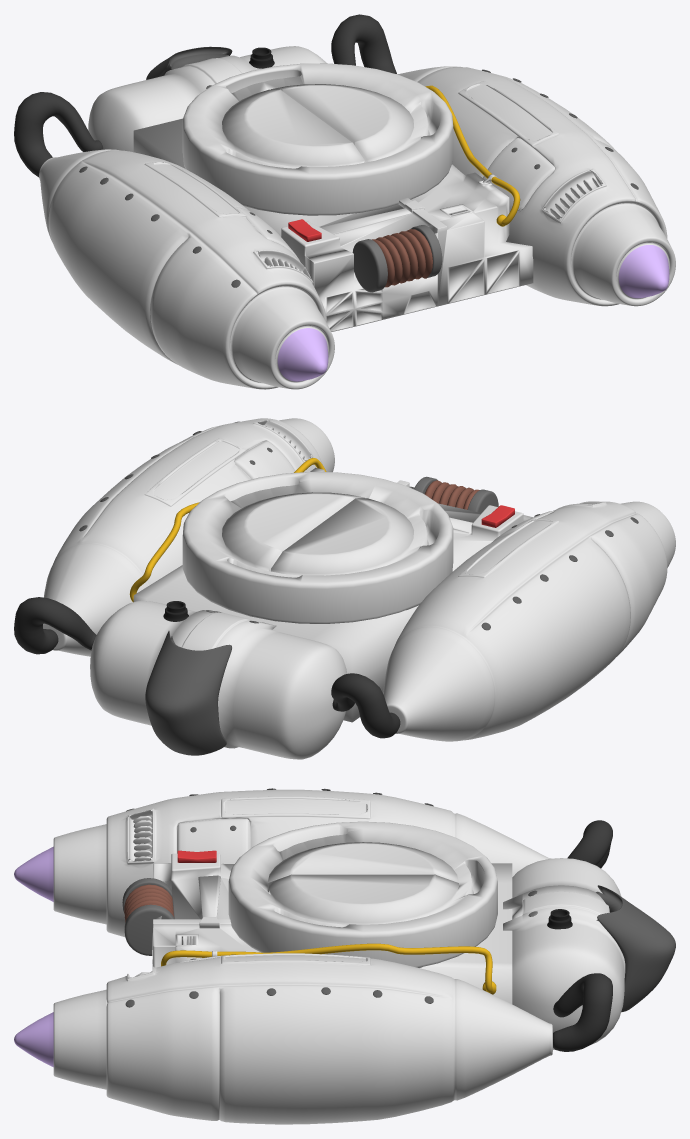
Rendered from Jetpack.fbx.
The picture shows the model from 3 angles, top to bottom: view 1: azimuth 30°, elevation 25°; view 2: azimuth 150°, elevation 25°; view 3: azimuth 270°, elevation 25°; orthographic projection.
Parts seen in each view (by area): view 1: Cylinder; view 2: Cylinder; view 3: Cylinder.
Part boxes in pixels (x1,y1,x2,y2): Cylinder: (14, 14, 675, 389); Cylinder: (14, 418, 675, 759); Cylinder: (14, 788, 675, 1124).
Size of the model in its own units: 416 by 131 by 492.
